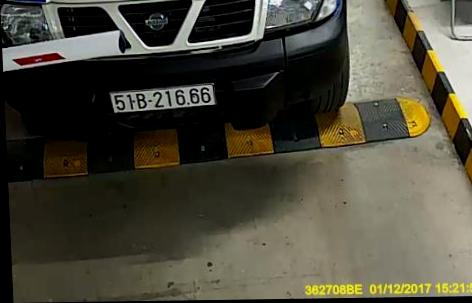License_Plate: (100, 79, 219, 117)
